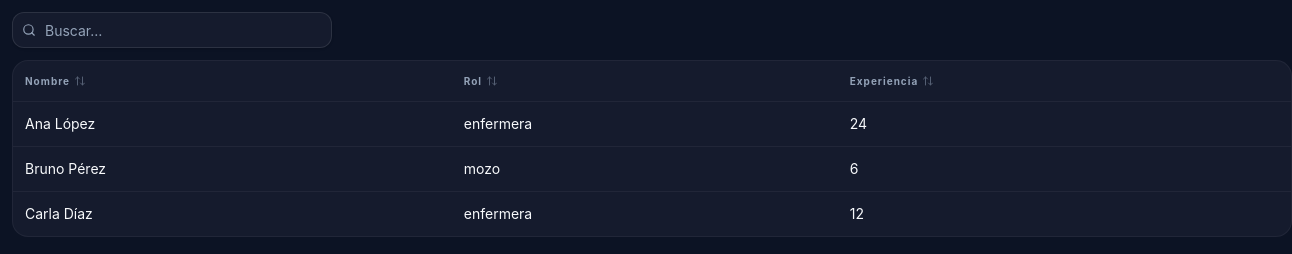
Test: DataTable › filtra filas con el search global (case-insensitive, sin tocar columnas opt-out)
Type "ana" into the field with test id "datatable-search" at (172, 30), box [12,12,332,48]
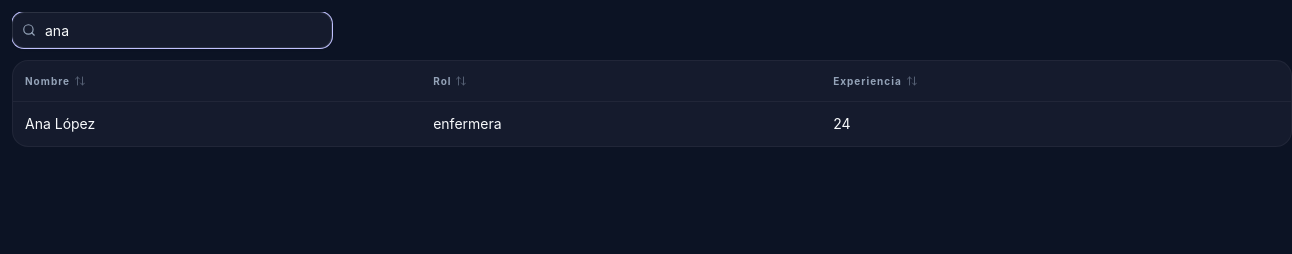
expect the row with test id "datatable-row-a" is shown: met, box [13,101,1291,146]
expect the row with test id "datatable-row-b" is gone: met
expect the row with test id "datatable-row-c" is gone: met
